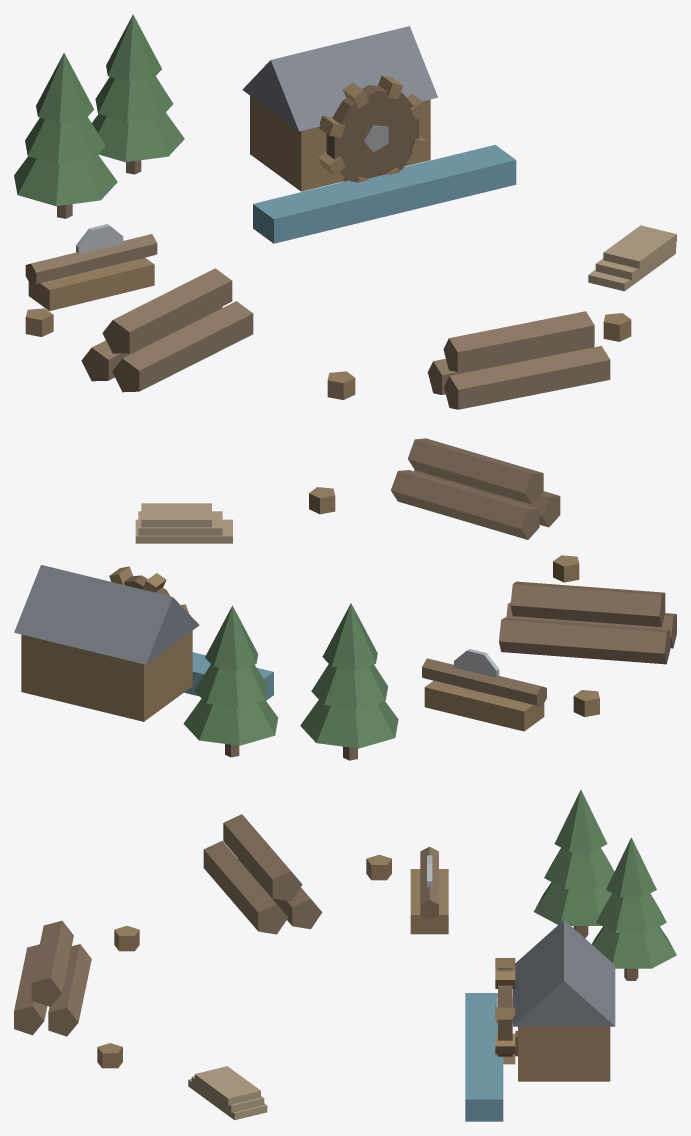
The model's file is lumber-mill.glb.
The picture shows the model from 3 angles, top to bottom: view 1: azimuth 30°, elevation 25°; view 2: azimuth 150°, elevation 25°; view 3: azimuth 270°, elevation 25°; orthographic projection. The views are drawn at different scales.
Parts seen in each view (by area): view 1: LOD0; view 2: LOD0; view 3: LOD0.
Boxes of the visible parts, x1,y1,x2,y2 form: LOD0: (14,14,676,409); LOD0: (14,438,676,760); LOD0: (14,790,676,1121).
Size of what is drawn, in the model's own units: 1.43 by 0.4252 by 1.58.
